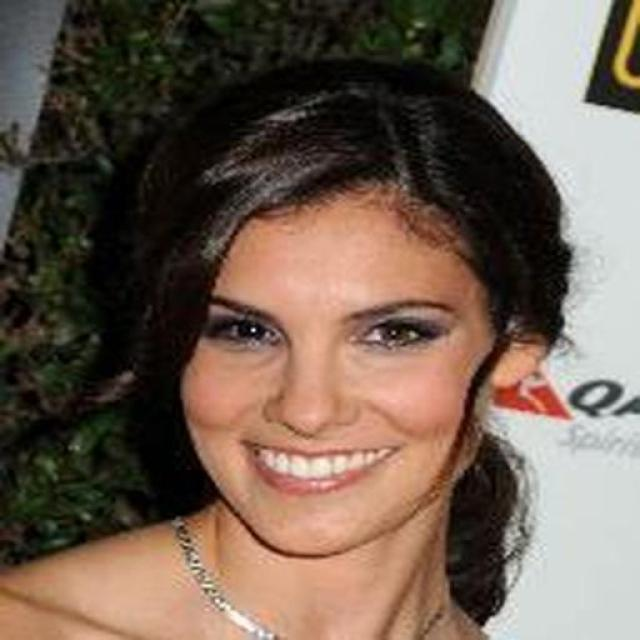bareface: (172, 126, 540, 534)
